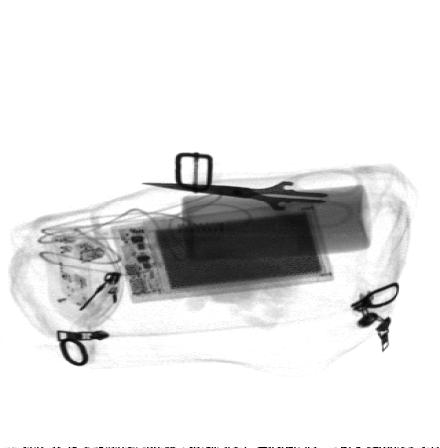Powerbank: (105, 201, 336, 303)
Scissors: (141, 167, 367, 233)
